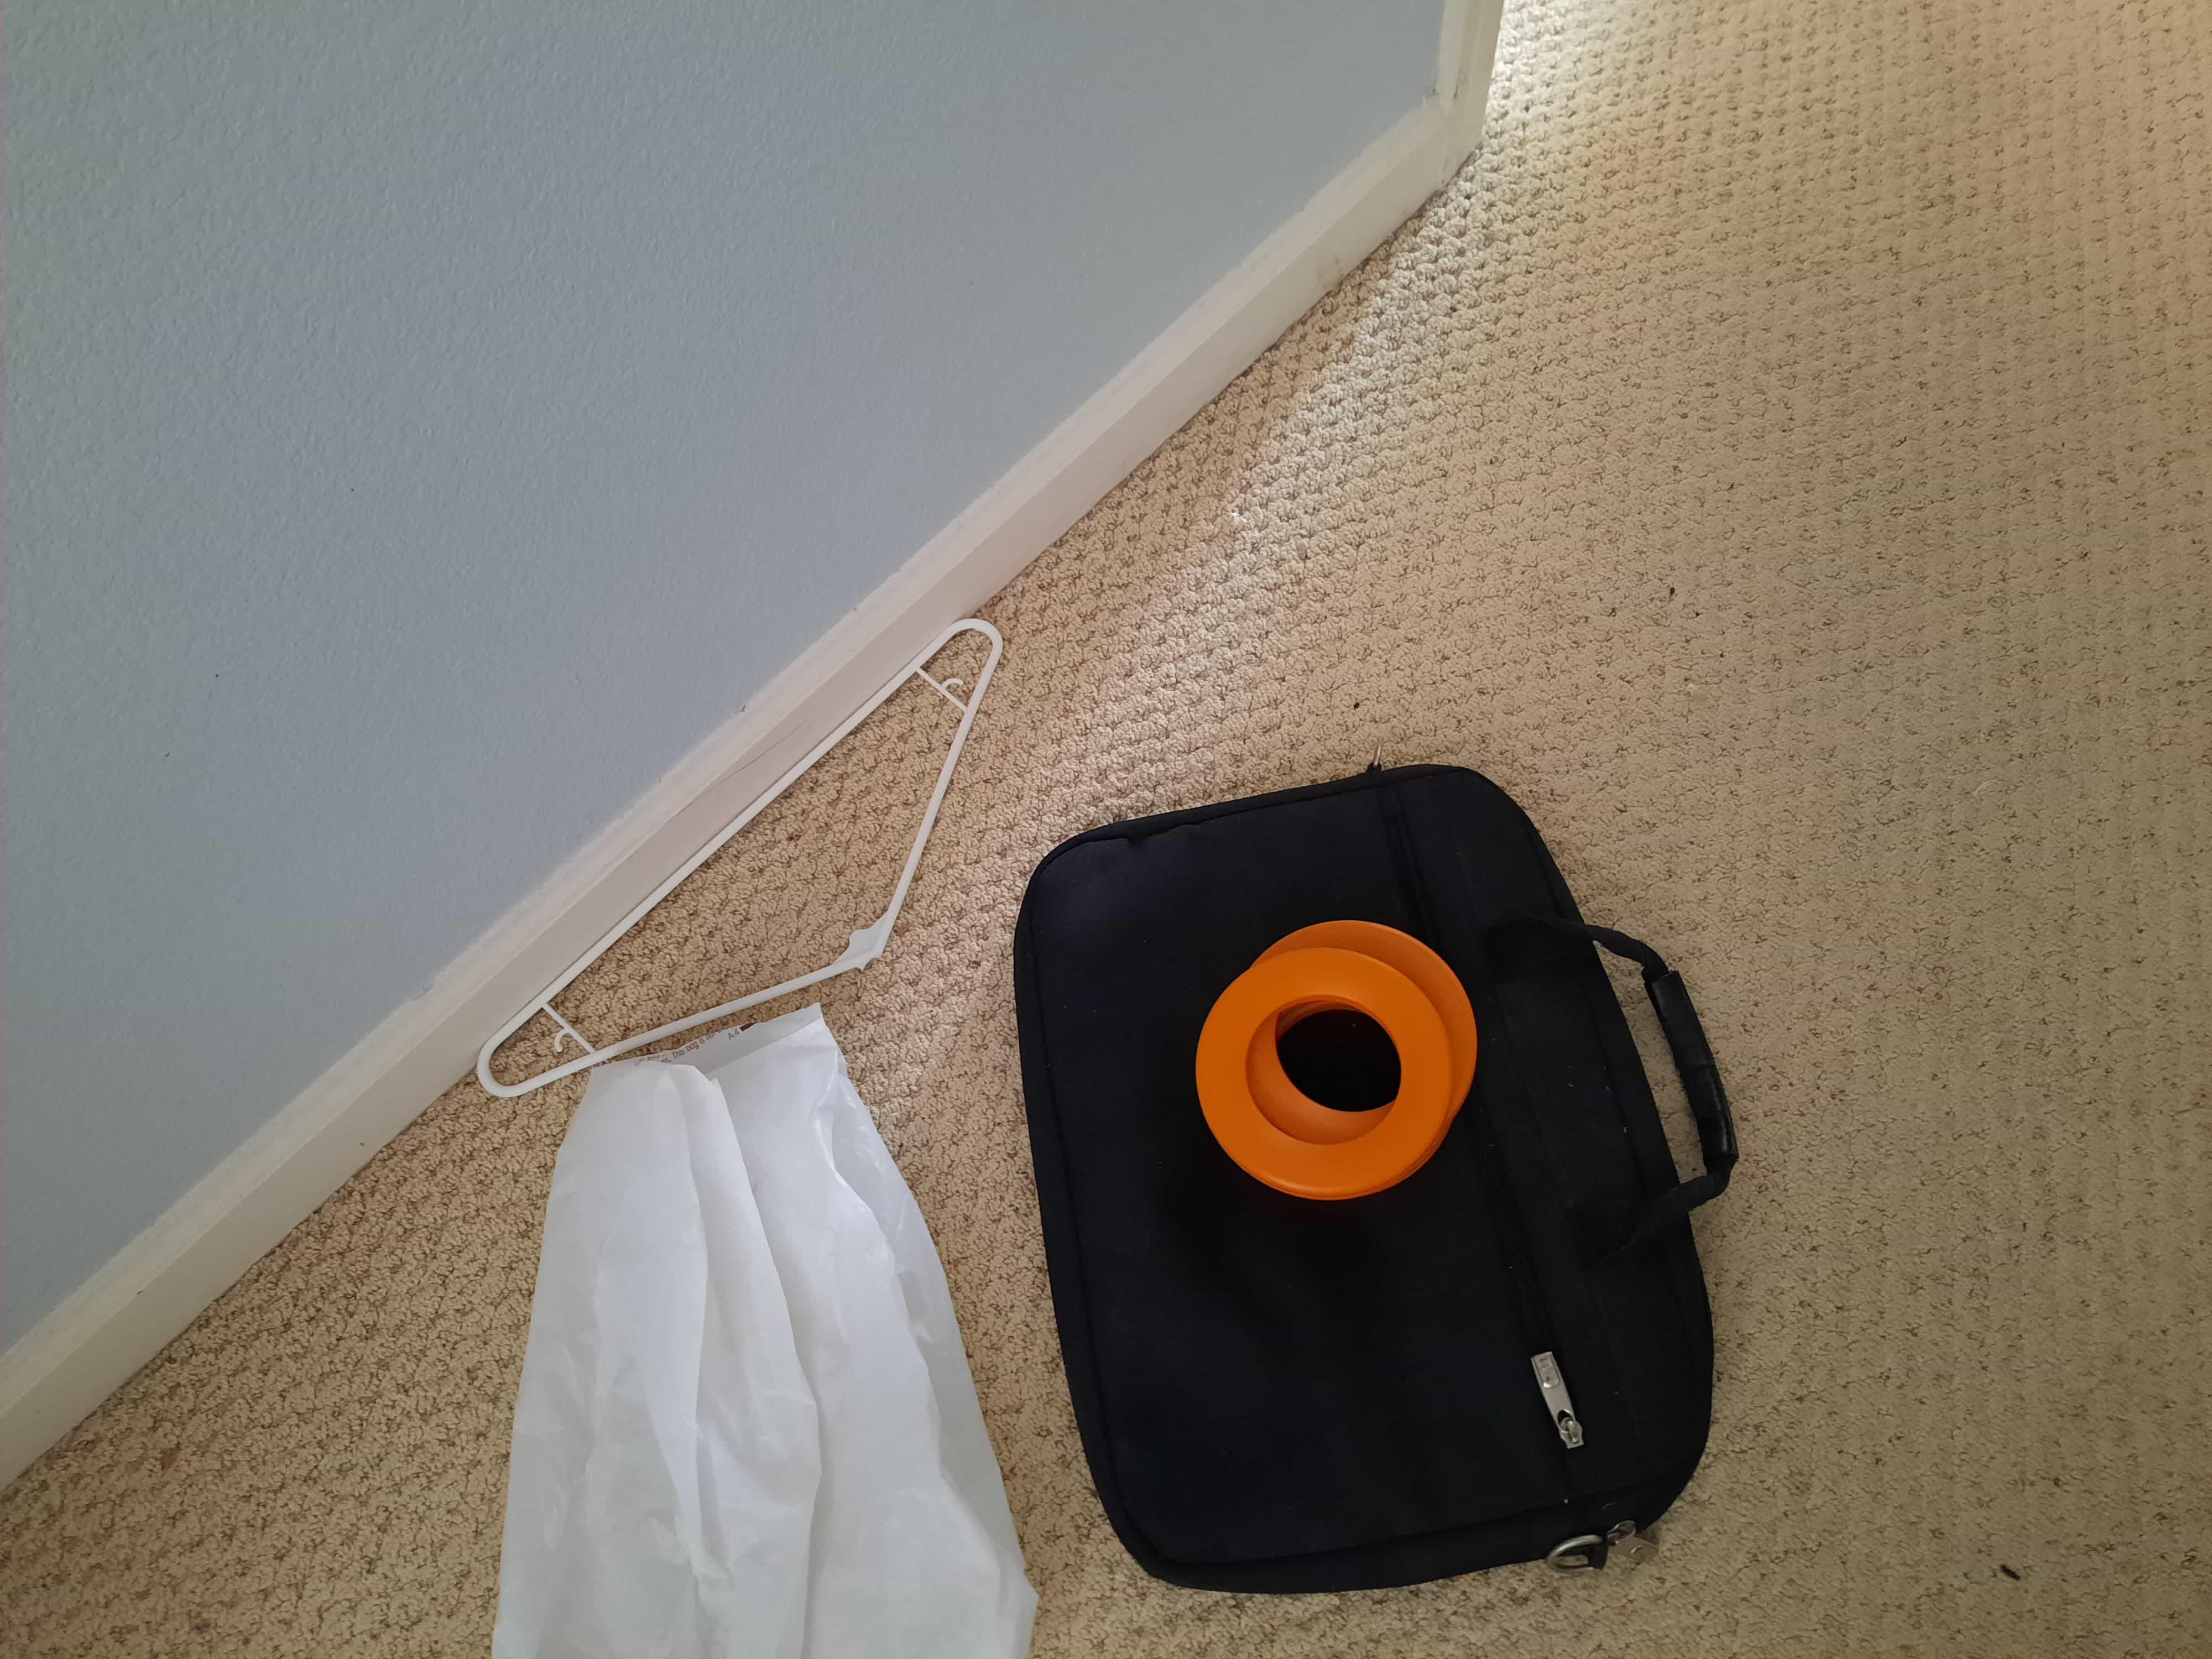FourStack: (1197, 920, 1484, 1201)
